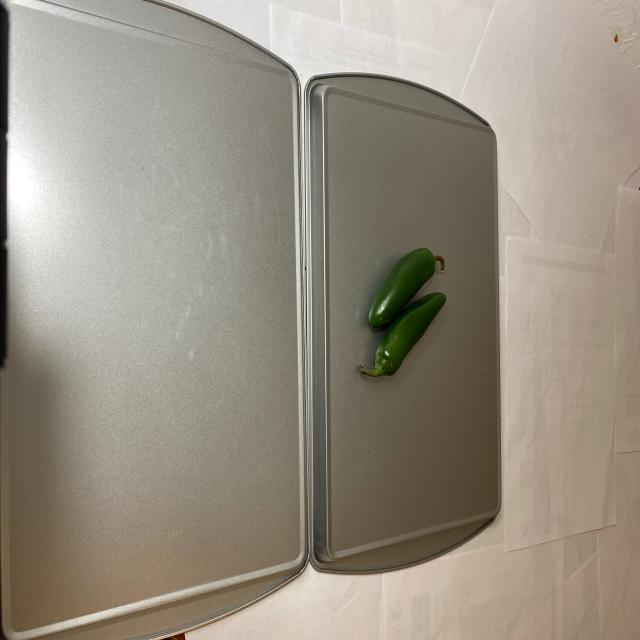chilli: (356, 246, 447, 386)
